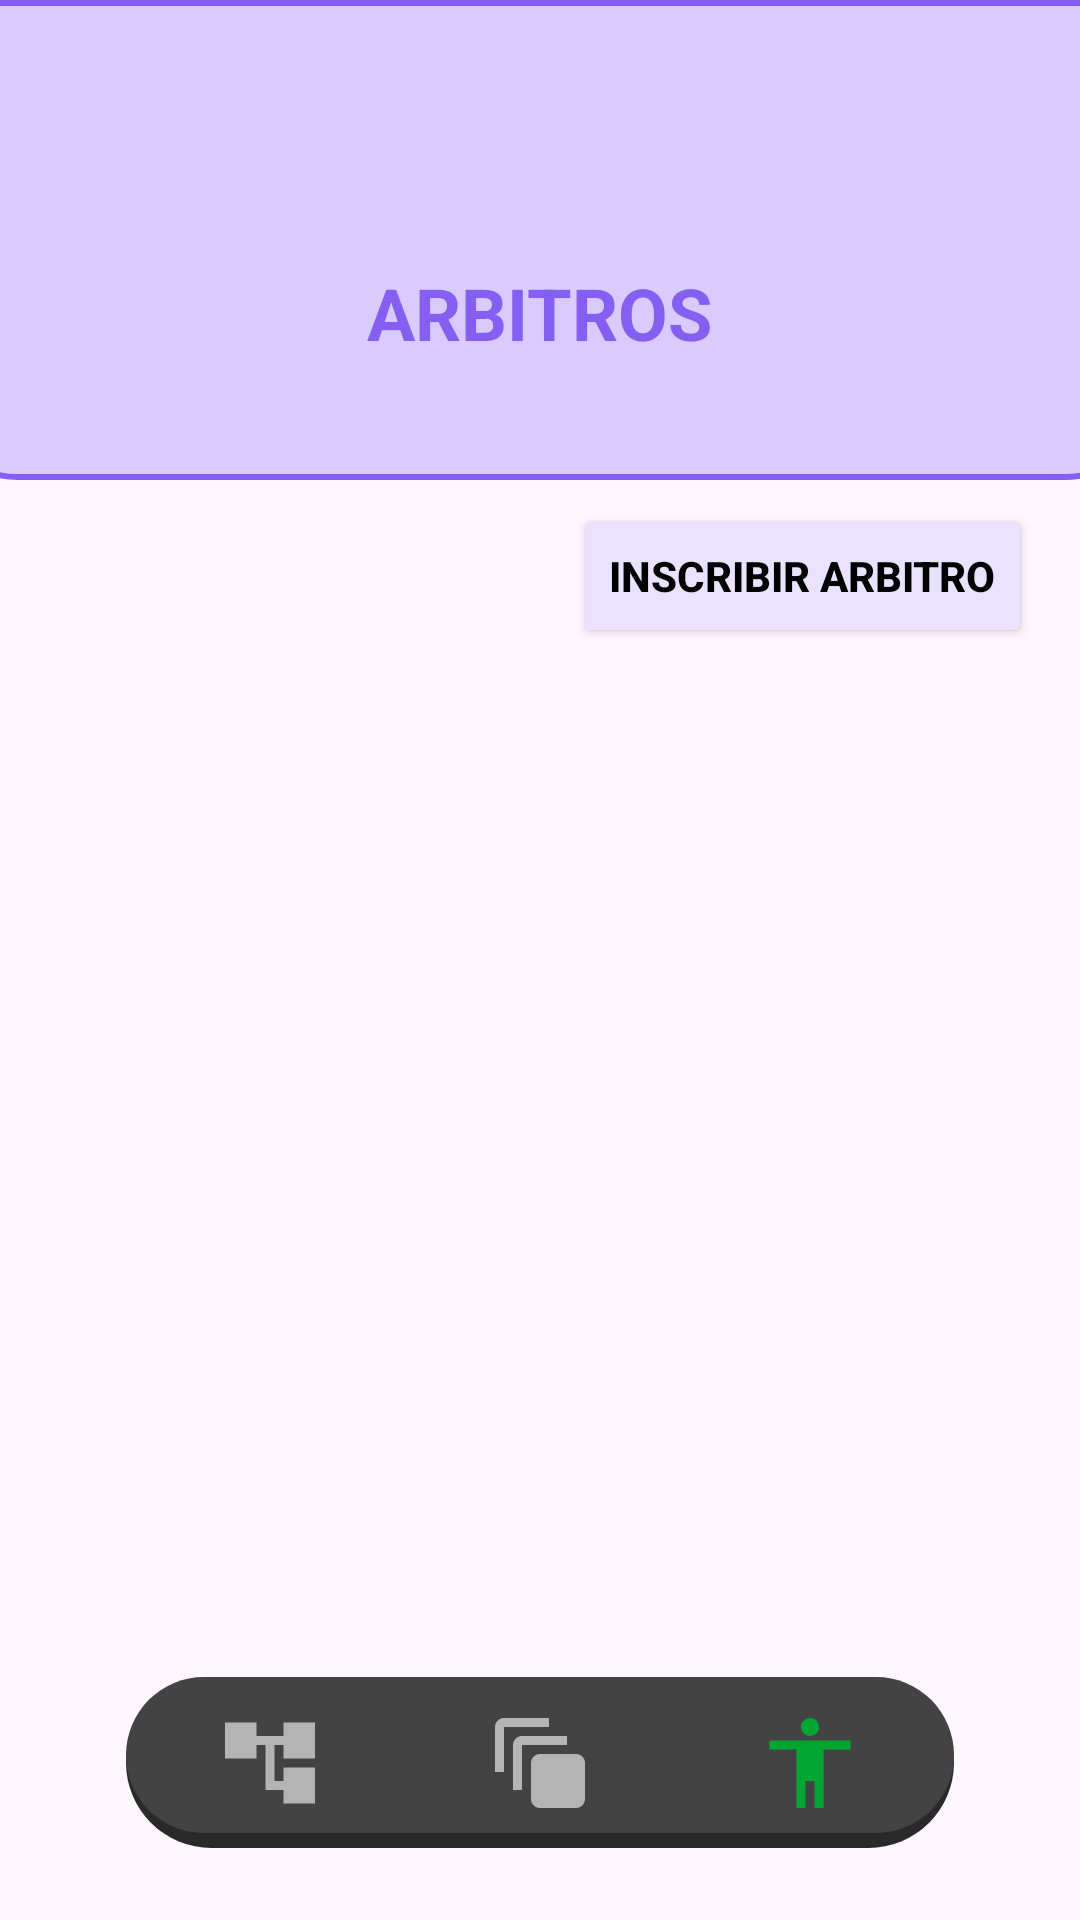

Screen size 1080x1920. Icon name, then its center in pixels as (x,y):
arbitro: (810,1763)
torneos: (270,1763)
